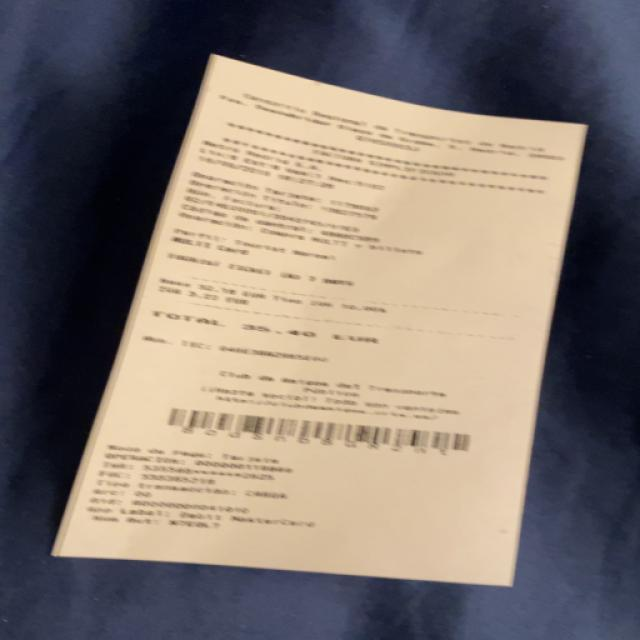document: (52, 55, 586, 585)
